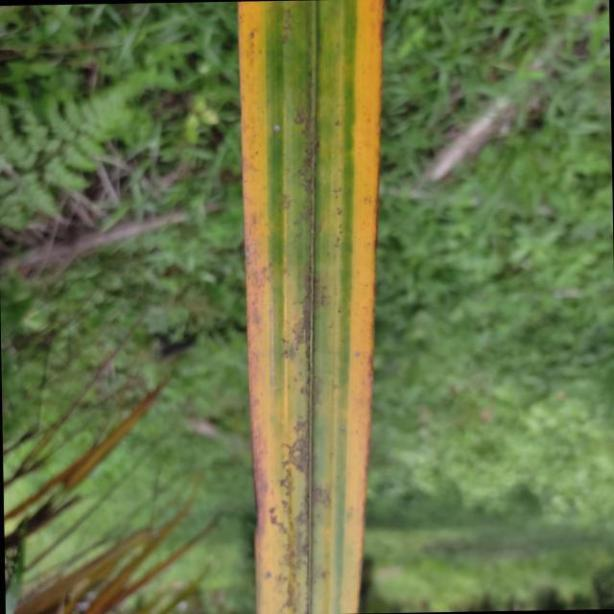Megnesium: (230, 0, 379, 614)
